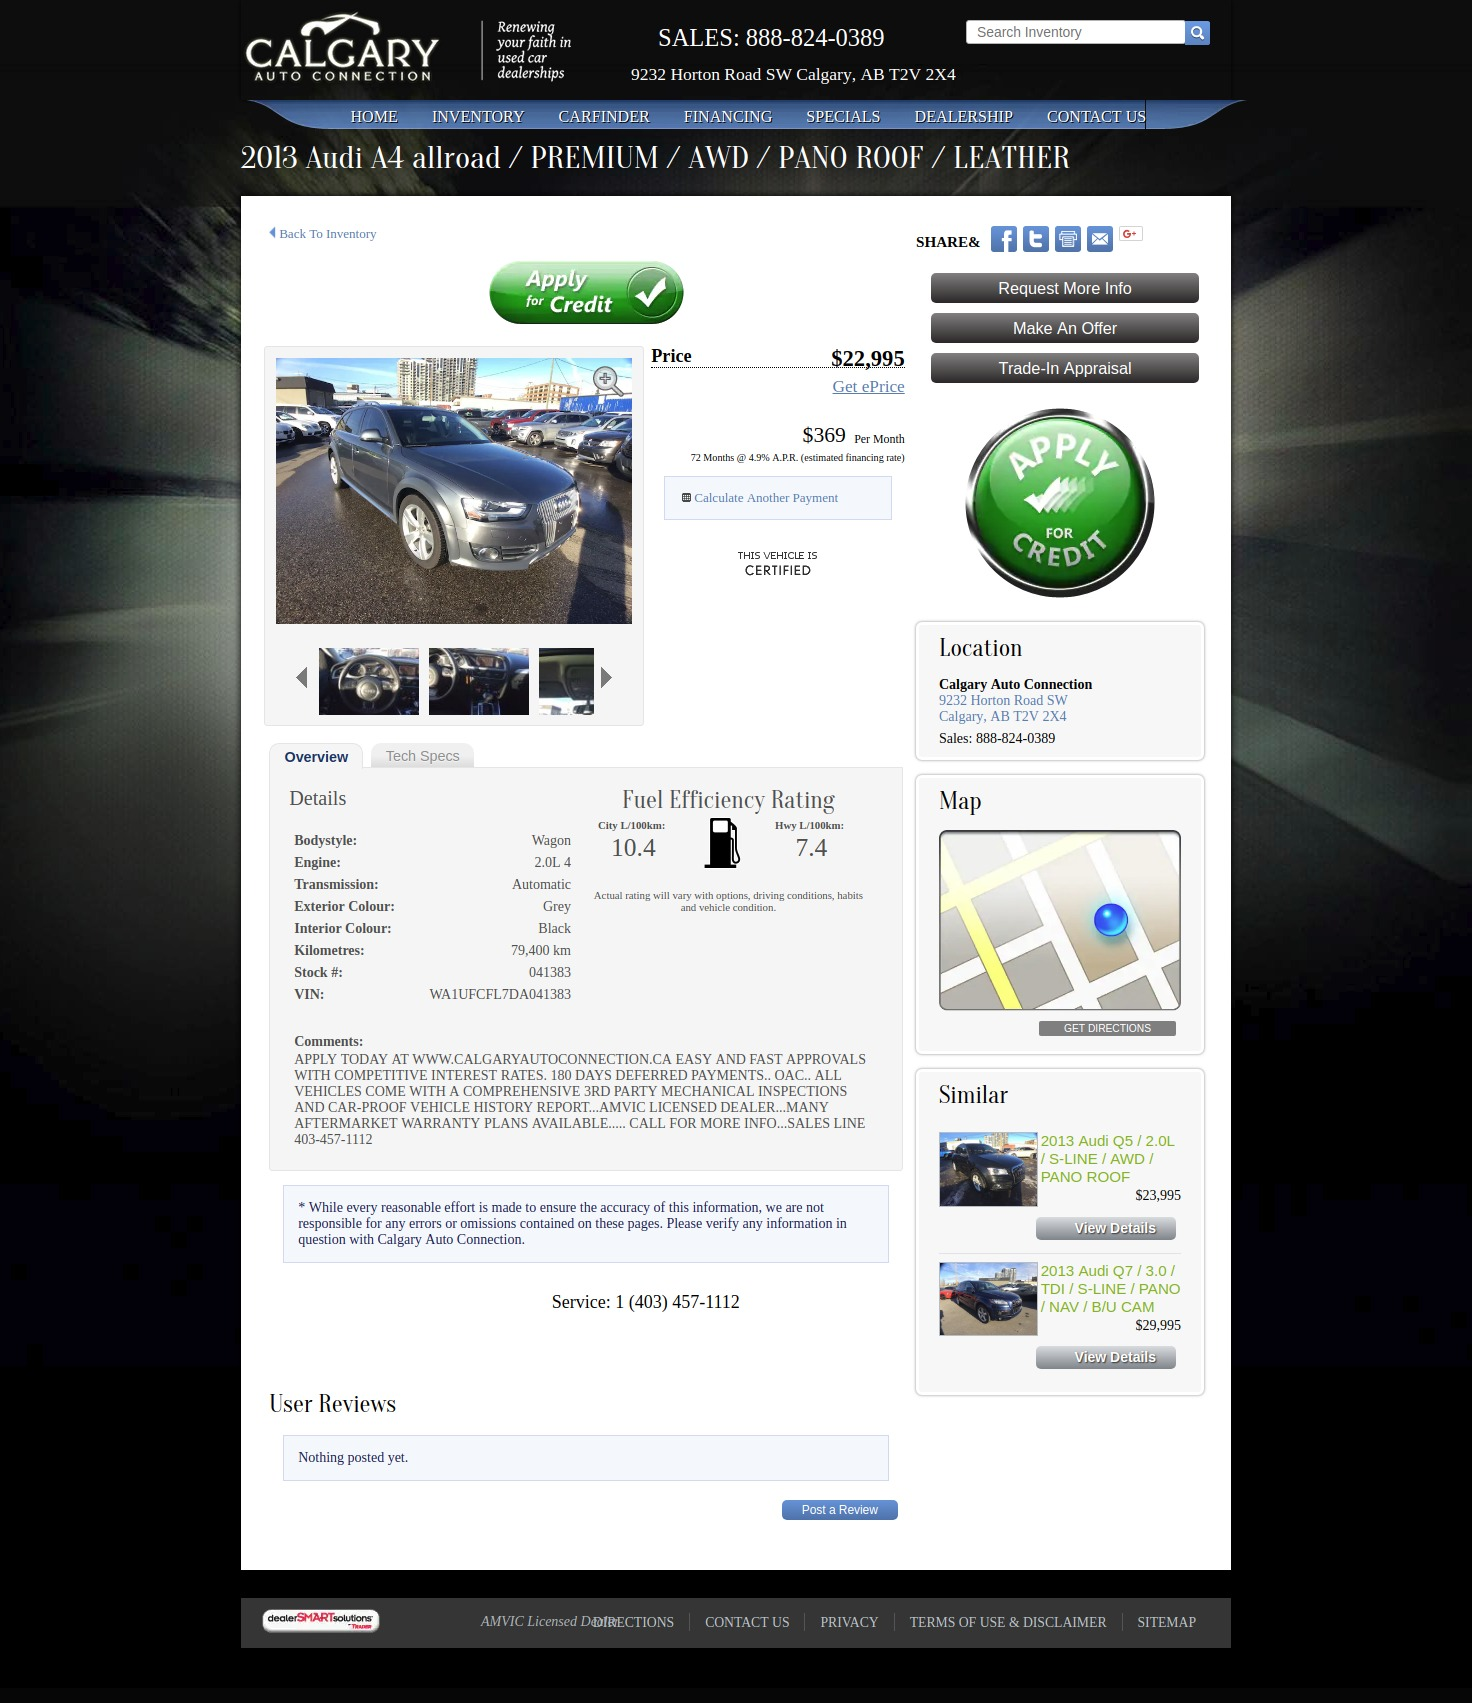car: (600, 666, 614, 689)
